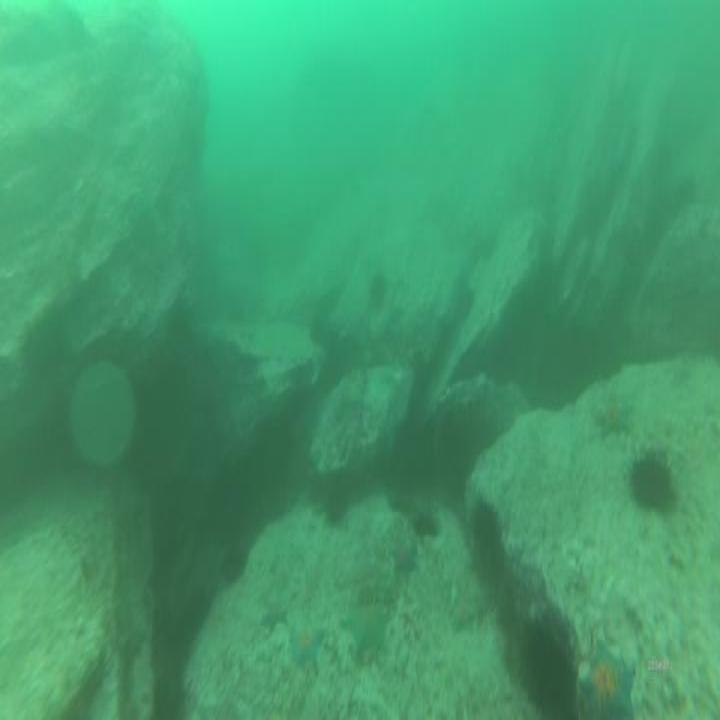echinus: (528, 626, 568, 720), (473, 509, 503, 574), (634, 458, 669, 508), (221, 537, 250, 587), (323, 485, 348, 524), (370, 270, 386, 313)
holothurian: (358, 583, 398, 610)
starfish: (586, 649, 632, 718), (341, 606, 385, 654), (287, 619, 320, 663), (599, 398, 634, 432), (450, 590, 477, 631), (390, 537, 416, 569), (261, 597, 284, 624)
